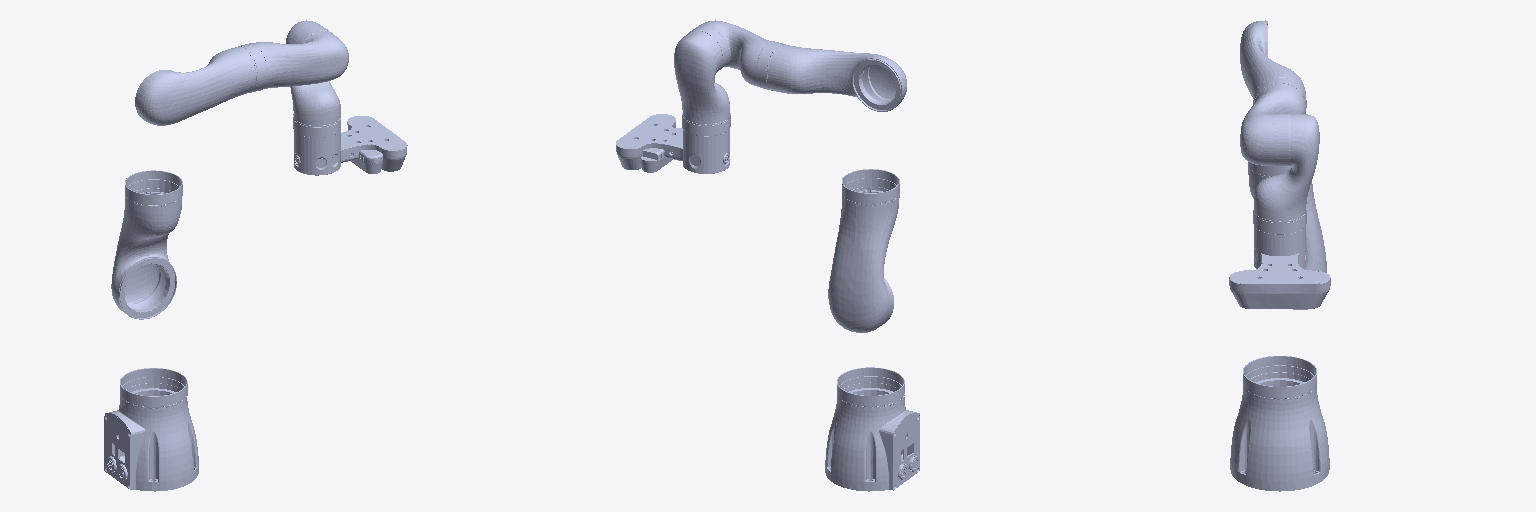
The robot description file, URDF, robot "tcb705v":
<?xml version="1.0" encoding="utf-8"?>
<!-- This URDF was automatically created by SolidWorks to URDF Exporter! Originally created by Stephen Brawner (brawner@gmail.com) 
     Commit Version: 1.6.0-4-g7f85cfe  Build Version: 1.6.7995.38578
     For more information, please see http://wiki.ros.org/sw_urdf_exporter -->
<robot
  name="tcb705v">
  <mujoco>
    <compiler
      meshdir="../meshes/"
      discardvisual="false"
    />
  </mujoco> 
  <link
    name="link0">
    <inertial>
      <origin
        xyz="0.000708831292588158 -8.6107534914906E-05 0.0437241147546662"
        rpy="0 0 0" />
      <mass
        value="0.184997778677384" />
      <inertia
        ixx="0.000408655880224899"
        ixy="-6.47925326858516E-07"
        ixz="3.45905947380278E-06"
        iyy="0.000402045698173365"
        iyz="-4.42033155327599E-07"
        izz="0.000394929591269372" />
    </inertial>
    <visual>
      <origin
        xyz="0 0 0"
        rpy="0 0 0" />
      <geometry>
        <mesh
          filename="package://tl_description/meshes/tcb705v/link0.STL" />
      </geometry>
      <material
        name="">
        <color
          rgba="0.792156862745098 0.819607843137255 0.933333333333333 1" />
      </material>
    </visual>
    <collision>
      <origin
        xyz="0 0 0"
        rpy="0 0 0" />
      <geometry>
        <mesh
          filename="package://tl_description/meshes/tcb705v/link0.STL" />
      </geometry>
    </collision>
  </link>
  <link
    name="link1">
    <inertial>
      <origin
        xyz="-1.47467364543795E-05 -0.0147035745839652 0.074170065372986"
        rpy="0 0 0" />
      <mass
        value="0.14078274314442" />
      <inertia
        ixx="0.000389165158363872"
        ixy="7.76850517532585E-09"
        ixz="-3.4596536645541E-08"
        iyy="0.000404601054210795"
        iyz="5.39676858807366E-05"
        izz="0.000158801770197842" />
    </inertial>
    <visual>
      <origin
        xyz="0 0 0"
        rpy="0 0 0" />
      <geometry>
        <mesh
          filename="package://tl_description/meshes/tcb705v/link1.STL" />
      </geometry>
      <material
        name="">
        <color
          rgba="0.792156862745098 0.819607843137255 0.933333333333333 1" />
      </material>
    </visual>
    <collision>
      <origin
        xyz="0 0 0"
        rpy="0 0 0" />
      <geometry>
        <mesh
          filename="package://tl_description/meshes/tcb705v/link1.STL" />
      </geometry>
    </collision>
  </link>
  <joint
    name="joint1"
    type="revolute">
    <origin
      xyz="0 0 0.11455"
      rpy="0 0 0" />
    <parent
      link="link0" />
    <child
      link="link1" />
    <axis
      xyz="0 0 1" />
    <limit
      lower="-3.1226"
      upper="3.1226"
      effort="0"
      velocity="0" />
  </joint>
  <link
    name="link2">
    <inertial>
      <origin
        xyz="8.61535466717848E-06 -0.0560508787266447 0.0117257364090613"
        rpy="0 0 0" />
      <mass
        value="0.124463620303859" />
      <inertia
        ixx="0.000370601578271224"
        ixy="-9.27831113208387E-09"
        ixz="-9.42550205169074E-09"
        iyy="0.000121246909389466"
        iyz="-7.13455520508631E-05"
        izz="0.000380204304484532" />
    </inertial>
    <visual>
      <origin
        xyz="0 0 0"
        rpy="0 0 0" />
      <geometry>
        <mesh
          filename="package://tl_description/meshes/tcb705v/link2.STL" />
      </geometry>
      <material
        name="">
        <color
          rgba="0.792156862745098 0.819607843137255 0.933333333333333 1" />
      </material>
    </visual>
    <collision>
      <origin
        xyz="0 0 0"
        rpy="0 0 0" />
      <geometry>
        <mesh
          filename="package://tl_description/meshes/tcb705v/link2.STL" />
      </geometry>
    </collision>
  </link>
  <joint
    name="joint2"
    type="revolute">
    <origin
      xyz="0 0.00715 0.12745"
      rpy="-1.5708 0 0" />
    <parent
      link="link1" />
    <child
      link="link2" />
    <axis
      xyz="0 0 1" />
    <limit
      lower="-2.3550"
      upper="2.3550"
      effort="0"
      velocity="0" />
  </joint>
  <link
    name="link3">
    <inertial>
      <origin
        xyz="-0.000129631315073277 0.0129892407646547 0.0730749657672627"
        rpy="0 0 0" />
      <mass
        value="0.114590469364388" />
      <inertia
        ixx="0.000277982717731438"
        ixy="-1.69536546152647E-07"
        ixz="9.64200178666297E-07"
        iyy="0.000287463601314177"
        iyz="-3.76358084293264E-05"
        izz="9.7211308311432E-05" />
    </inertial>
    <visual>
      <origin
        xyz="0 0 0"
        rpy="0 0 0" />
      <geometry>
        <mesh
          filename="package://tl_description/meshes/tcb705v/link3.STL" />
      </geometry>
      <material
        name="">
        <color
          rgba="0.792156862745098 0.819607843137255 0.933333333333333 1" />
      </material>
    </visual>
    <collision>
      <origin
        xyz="0 0 0"
        rpy="0 0 0" />
      <geometry>
        <mesh
          filename="package://tl_description/meshes/tcb705v/link3.STL" />
      </geometry>
    </collision>
  </link>
  <joint
    name="joint3"
    type="revolute">
    <origin
      xyz="0 -0.14065 -0.00715"
      rpy="1.5708 0 0" />
    <parent
      link="link2" />
    <child
      link="link3" />
    <axis
      xyz="0 0 1" />
    <limit
      lower="-3.1226"
      upper="3.1226"
      effort="0"
      velocity="0" />
  </joint>
  <link
    name="link4">
    <inertial>
      <origin
        xyz="0.0577535239535678 -6.46544791788051E-06 -0.0089847147014021"
        rpy="0 0 0" />
      <mass
        value="0.0945260086054548" />
      <inertia
        ixx="6.4261633288609E-05"
        ixy="5.31249468349128E-08"
        ixz="-4.60316398863621E-05"
        iyy="0.000237785840924347"
        iyz="1.09590839404291E-09"
        izz="0.000240859287940391" />
    </inertial>
    <visual>
      <origin
        xyz="0 0 0"
        rpy="0 0 0" />
      <geometry>
        <mesh
          filename="package://tl_description/meshes/tcb705v/link4.STL" />
      </geometry>
      <material
        name="">
        <color
          rgba="0.792156862745098 0.819607843137255 0.933333333333333 1" />
      </material>
    </visual>
    <collision>
      <origin
        xyz="0 0 0"
        rpy="0 0 0" />
      <geometry>
        <mesh
          filename="package://tl_description/meshes/tcb705v/link4.STL" />
      </geometry>
    </collision>
  </link>
  <joint
    name="joint4"
    type="revolute">
    <origin
      xyz="0 -0.00815 0.12935"
      rpy="-1.5708 0 0" />
    <parent
      link="link3" />
    <child
      link="link4" />
    <axis
      xyz="0 0 1" />
    <limit
      lower="-4.0666"
      upper="0.9250"
      effort="0"
      velocity="0" />
  </joint>
  <link
    name="link5">
    <inertial>
      <origin
        xyz="-1.01597416973798E-05 -0.0129940454507881 -0.0554922895057171"
        rpy="0 0 0" />
      <mass
        value="0.0720848609282151" />
      <inertia
        ixx="0.000105414962557607"
        ixy="-1.2105098524385E-08"
        ixz="2.49624492583413E-09"
        iyy="0.00010613474787178"
        iyz="-1.86457218840475E-05"
        izz="4.55695463915064E-05" />
    </inertial>
    <visual>
      <origin
        xyz="0 0 0"
        rpy="0 0 0" />
      <geometry>
        <mesh
          filename="package://tl_description/meshes/tcb705v/link5.STL" />
      </geometry>
      <material
        name="">
        <color
          rgba="0.792156862745098 0.819607843137255 0.933333333333333 1" />
      </material>
    </visual>
    <collision>
      <origin
        xyz="0 0 0"
        rpy="0 0 0" />
      <geometry>
        <mesh
          filename="package://tl_description/meshes/tcb705v/link5.STL" />
      </geometry>
    </collision>
  </link>
  <joint
    name="joint5"
    type="revolute">
    <origin
      xyz="0.13665 0 0.00815"
      rpy="1.5708 0 -1.5708" />
    <parent
      link="link4" />
    <child
      link="link5" />
    <axis
      xyz="0 0 -1" />
    <limit
      lower="-3.1226"
      upper="3.1226"
      effort="0"
      velocity="0" />
  </joint>
  <link
    name="link6">
    <inertial>
      <origin
        xyz="-0.0369306815816491 -1.08688351491137E-06 -0.0122181370965946"
        rpy="0 0 0" />
      <mass
        value="0.0641129265618949" />
      <inertia
        ixx="4.10033658224875E-05"
        ixy="7.57133585164881E-09"
        ixz="2.10914840189856E-05"
        iyy="9.88028442134006E-05"
        iyz="3.11429329369111E-09"
        izz="9.73769519458484E-05" />
    </inertial>
    <visual>
      <origin
        xyz="0 0 0"
        rpy="0 0 0" />
      <geometry>
        <mesh
          filename="package://tl_description/meshes/tcb705v/link6.STL" />
      </geometry>
      <material
        name="">
        <color
          rgba="0.792156862745098 0.819607843137255 0.933333333333333 1" />
      </material>
    </visual>
    <collision>
      <origin
        xyz="0 0 0"
        rpy="0 0 0" />
      <geometry>
        <mesh
          filename="package://tl_description/meshes/tcb705v/link6.STL" />
      </geometry>
    </collision>
  </link>
  <joint
    name="joint6"
    type="revolute">
    <origin
      xyz="0 0.00365 -0.09335"
      rpy="1.5708 0 0" />
    <parent
      link="link5" />
    <child
      link="link6" />
    <axis
      xyz="0 0 -1" />
    <limit
      lower="-3.8921"
      upper="0.7505"
      effort="0"
      velocity="0" />
  </joint>
  <link
    name="link7">
    <inertial>
      <origin
        xyz="0.0487295160961665 -0.000324754823316162 -0.0141105990581868"
        rpy="0 0 0" />
      <mass
        value="0.149790642620123" />
      <inertia
        ixx="0.00010735344415625"
        ixy="2.30487581004937E-06"
        ixz="-4.38540068068281E-05"
        iyy="0.000281991907381479"
        iyz="8.15616702512821E-08"
        izz="0.000329332771650774" />
    </inertial>
    <visual>
      <origin
        xyz="0 0 0"
        rpy="0 0 0" />
      <geometry>
        <mesh
          filename="package://tl_description/meshes/tcb705v/link7.STL" />
      </geometry>
      <material
        name="">
        <color
          rgba="0.792156862745098 0.819607843137255 0.933333333333333 1" />
      </material>
    </visual>
    <collision>
      <origin
        xyz="0 0 0"
        rpy="0 0 0" />
      <geometry>
        <mesh
          filename="package://tl_description/meshes/tcb705v/link7.STL" />
      </geometry>
    </collision>
  </link>
  <joint
    name="joint7"
    type="revolute">
    <origin
      xyz="-0.153 0 0.00365"
      rpy="1.5708 0 -1.5708" />
    <parent
      link="link6" />
    <child
      link="link7" />
    <axis
      xyz="0 0 1" />
    <limit
      lower="-3.1226"
      upper="3.1226"
      effort="0"
      velocity="0" />
  </joint>
  <link
    name="camera_link">
    <inertial>
      <origin
        xyz="0.0058706472914043 0.00117312032425971 0.0124843774818532"
        rpy="0 0 0" />
      <mass
        value="0.0471700210111277" />
      <inertia
        ixx="2.87281846018144E-05"
        ixy="4.20817722643927E-07"
        ixz="-4.33349001547797E-09"
        iyy="4.39204772538775E-06"
        iyz="-5.78217677583661E-10"
        izz="2.8973189574676E-05" />
    </inertial>
    <visual>
      <origin
        xyz="0 0 0"
        rpy="0 0 0" />
      <geometry>
        <mesh
          filename="package://tl_description/meshes/tcb705v/camera_link.STL" />
      </geometry>
      <material
        name="">
        <color
          rgba="0.792156862745098 0.819607843137255 0.933333333333333 1" />
      </material>
    </visual>
    <collision>
      <origin
        xyz="0 0 0"
        rpy="0 0 0" />
      <geometry>
        <mesh
          filename="package://tl_description/meshes/tcb705v/camera_link.STL" />
      </geometry>
    </collision>
  </link>
  <joint
    name="camera_joint"
    type="fixed">
    <origin
      xyz="0.0720000000000001 0 -0.0107187216588209"
      rpy="0 -1.5707963267949 0" />
    <parent
      link="link7" />
    <child
      link="camera_link" />
    <axis
      xyz="0 0 0" />
  </joint>
</robot>

--- What the picture shows (computed from the rendered views, not written in the file) ---
The picture shows the robot from 3 angles, left to right: view 1: azimuth 30°, elevation 25°; view 2: azimuth 150°, elevation 25°; view 3: azimuth 270°, elevation 25°; orthographic projection.
Model tcb705v with 9 links and 8 joints (7 revolute, 1 fixed), rooted at link0, posed all joints at 0.
Visible links, largest first — view 1: link0, link2, link4, link7, link5, link6, camera_link; view 2: link0, link2, link4, link6, link7, link5, camera_link; view 3: link0, link7, link6, link5, link4, link2.
Link boxes in pixels (x1,y1,x2,y2): link0: (104, 368, 198, 491); link2: (111, 170, 182, 319); link4: (135, 43, 267, 125); link7: (294, 116, 407, 175); link5: (253, 26, 348, 88); link6: (286, 20, 340, 137); camera_link: (341, 131, 382, 173); link0: (825, 367, 919, 491); link2: (828, 169, 899, 332); link4: (756, 41, 906, 111); link6: (674, 31, 730, 135); link7: (616, 114, 729, 173); link5: (689, 20, 770, 86); camera_link: (640, 128, 682, 172); link0: (1230, 356, 1329, 491); link7: (1229, 226, 1330, 308); link6: (1253, 114, 1319, 234); link5: (1240, 83, 1305, 165); link4: (1240, 20, 1306, 107); link2: (1248, 162, 1326, 309).
Size in the robot's own frame: 0.386 by 0.112 by 0.547 metres.
7 mesh visuals loaded from 9 distinct referenced files (7 binary STL); not drawn: 2 (reference not matched to a file when rendering).
